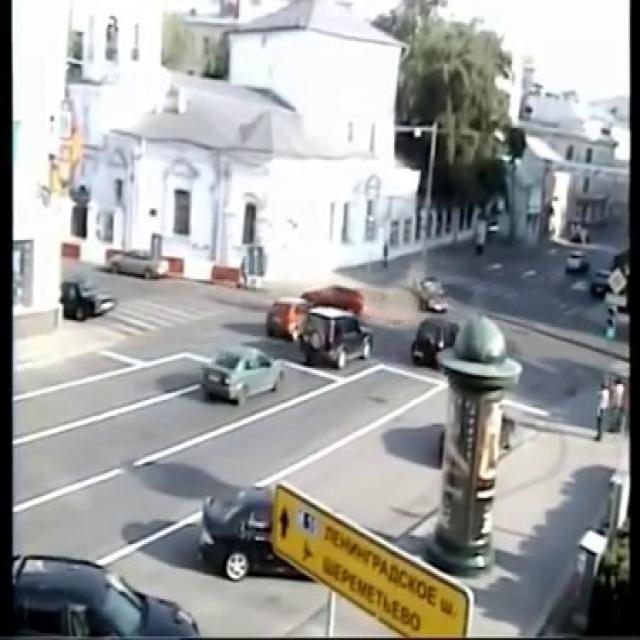accident: (269, 282, 377, 370)
